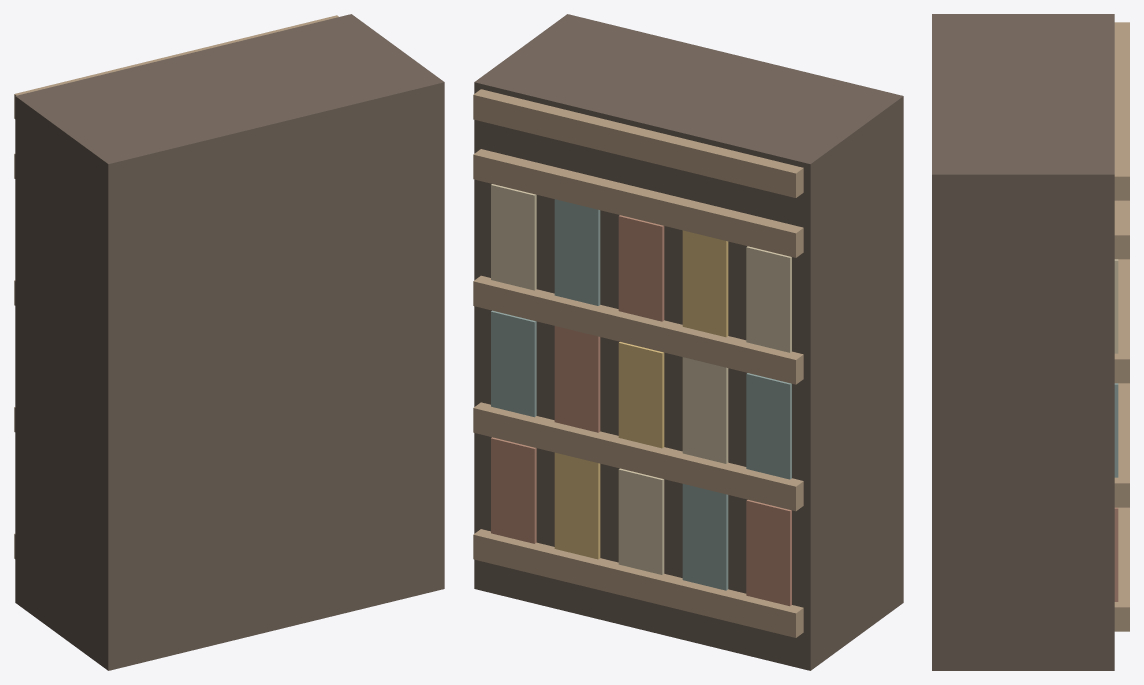
File: bookshelf.glb
The picture shows the model from 3 angles, left to right: view 1: azimuth 30°, elevation 25°; view 2: azimuth 150°, elevation 25°; view 3: azimuth 270°, elevation 25°; orthographic projection. The views are drawn at different scales.
Visible parts, largest first — view 1: wood_dark, wood_light; view 2: wood_dark, wood_light, fabric, rust, paper, loot; view 3: wood_dark, wood_light, fabric, paper, rust.
Part boxes in pixels (bbox=[...]): wood_dark: bbox=[15, 14, 444, 670]; wood_light: bbox=[14, 15, 338, 558]; wood_dark: bbox=[474, 14, 903, 670]; wood_light: bbox=[473, 89, 803, 637]; fabric: bbox=[491, 199, 791, 590]; rust: bbox=[491, 215, 791, 606]; paper: bbox=[491, 184, 791, 574]; loot: bbox=[554, 230, 728, 559]; wood_dark: bbox=[932, 14, 1114, 670]; wood_light: bbox=[1114, 22, 1129, 631]; fabric: bbox=[1114, 383, 1118, 477]; paper: bbox=[1114, 259, 1118, 353]; rust: bbox=[1114, 507, 1118, 601].
Bounding box in the file's own units: 1 × 1.44 × 0.52.
